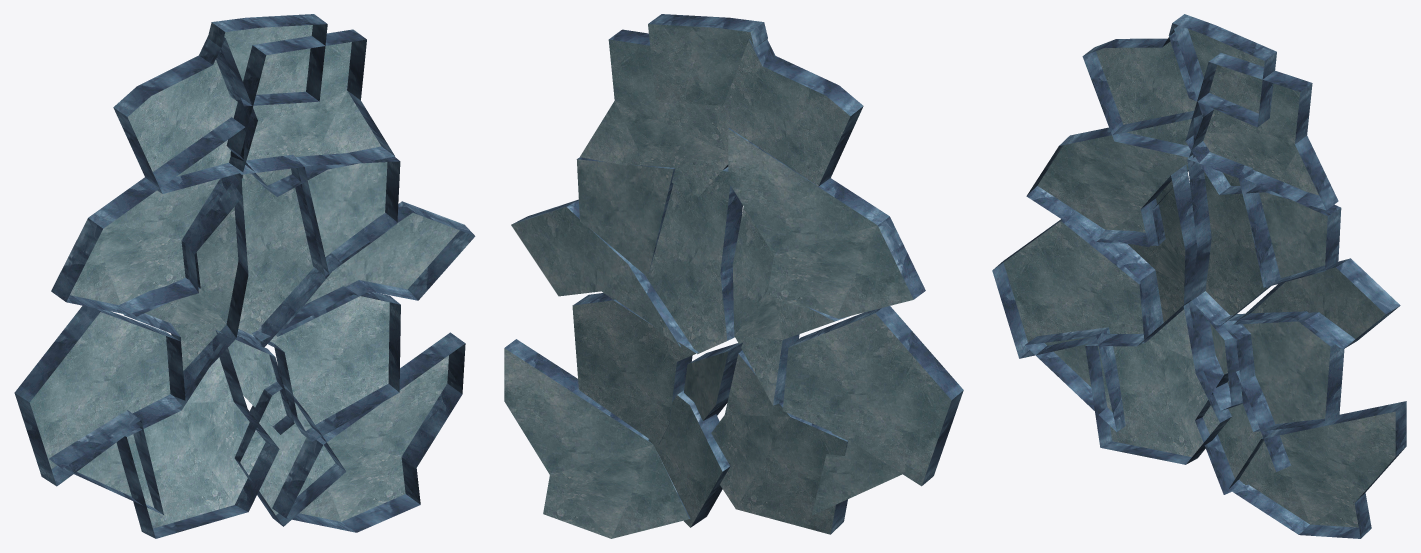
3 renders of one model, left to right at view 1: azimuth 30°, elevation 25°; view 2: azimuth 150°, elevation 25°; view 3: azimuth 330°, elevation 25°, orthographic. The views are drawn at different scales.
Parts seen in each view (by area): view 1: Object27; view 2: Object27; view 3: Object27.
Boxes of the visible parts, x1,y1,x2,y2 form: Object27: (14, 14, 475, 538); Object27: (504, 14, 963, 538); Object27: (992, 14, 1406, 538).
Bounding box in the file's own units: 46826 × 53971 × 6415.
